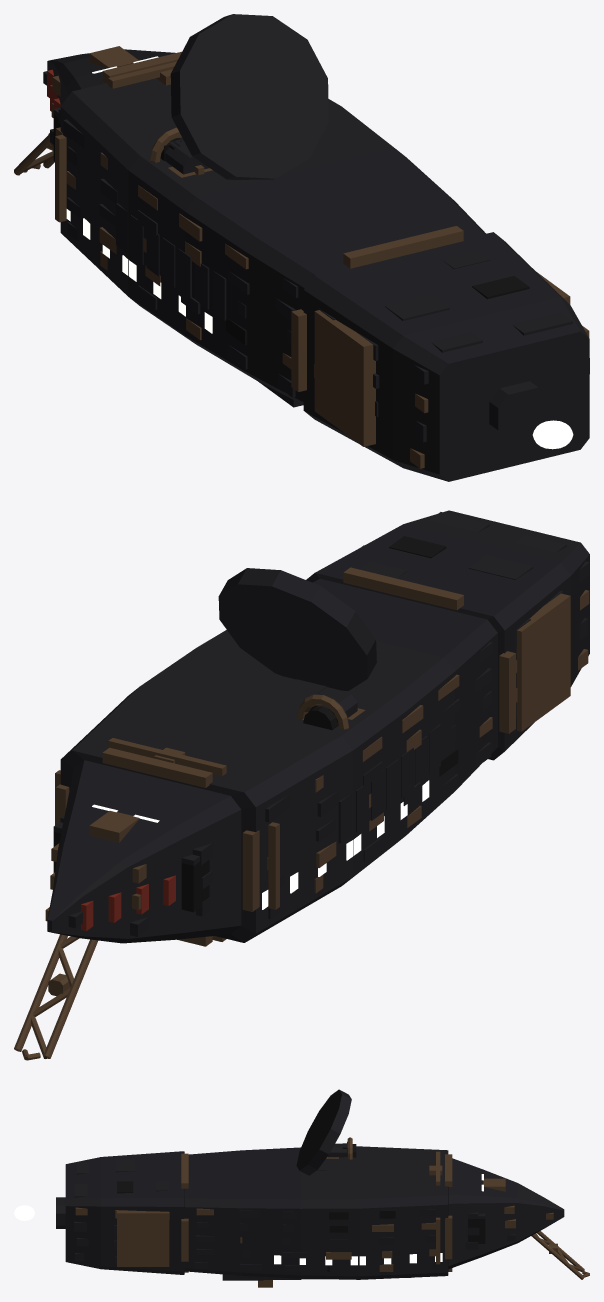
3 renders of one model, top to bottom at view 1: azimuth 30°, elevation 25°; view 2: azimuth 150°, elevation 25°; view 3: azimuth 270°, elevation 25°, orthographic. The views are drawn at different scales.
Visible parts, largest first — view 1: RIMWARD_HULL, RIMWARD_EMISSIVE, RIMWARD_ENGINE_GLOW; view 2: RIMWARD_HULL, RIMWARD_EMISSIVE; view 3: RIMWARD_HULL, RIMWARD_EMISSIVE.
Boxes of the visible parts, x1=… form: RIMWARD_HULL: x1=14, y1=14, x2=589, y2=481; RIMWARD_EMISSIVE: x1=66, y1=56, x2=212, y2=333; RIMWARD_ENGINE_GLOW: x1=532, y1=420, x2=573, y2=449; RIMWARD_HULL: x1=14, y1=510, x2=589, y2=1060; RIMWARD_EMISSIVE: x1=92, y1=780, x2=429, y2=909; RIMWARD_HULL: x1=56, y1=1089, x2=589, y2=1287; RIMWARD_EMISSIVE: x1=274, y1=1174, x2=483, y2=1265.
Bounding box in the file's own units: 1.86 × 2.57 × 7.65.
